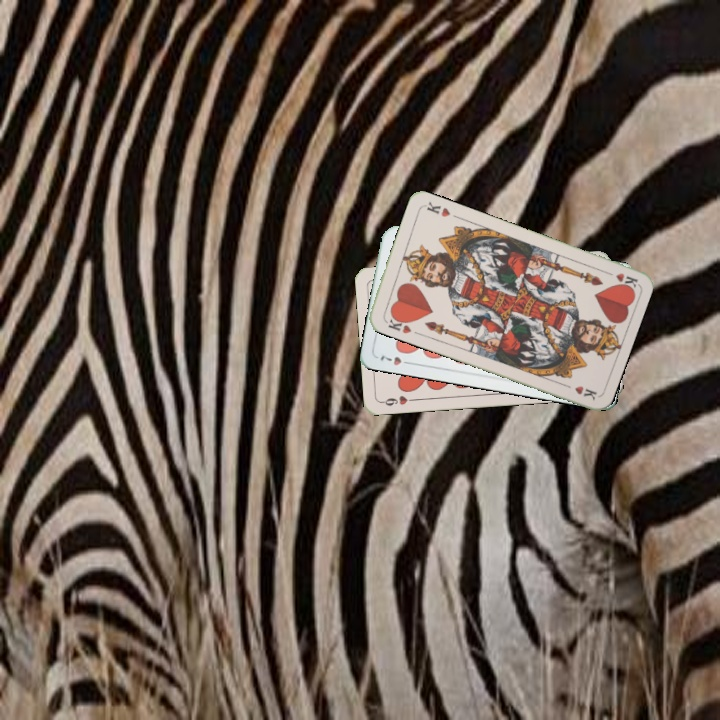H7: (376, 351, 415, 368)
H9: (378, 391, 419, 408)
HK: (599, 266, 639, 291), (380, 311, 414, 336)
